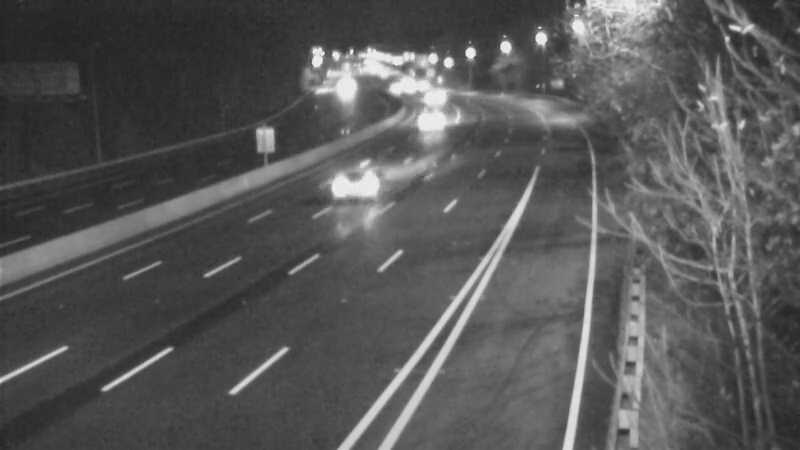vehicle: (304, 142, 384, 222), (408, 75, 458, 125), (399, 97, 449, 147), (319, 66, 369, 116)
